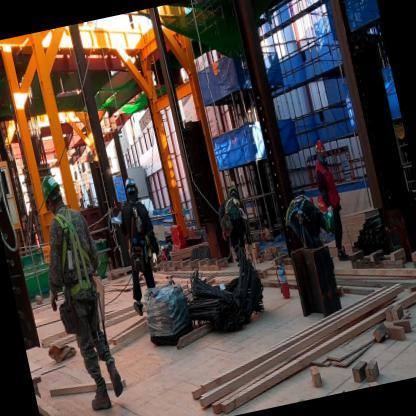Helmet: (34, 169, 65, 203)
safety-shoe: (82, 385, 117, 415), (109, 366, 135, 401)
